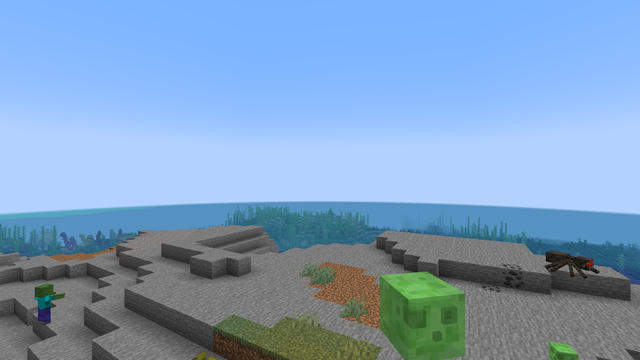araignees: (549, 248, 596, 278)
slimes: (380, 267, 453, 358), (549, 339, 577, 359)
zombies: (34, 283, 53, 327)
